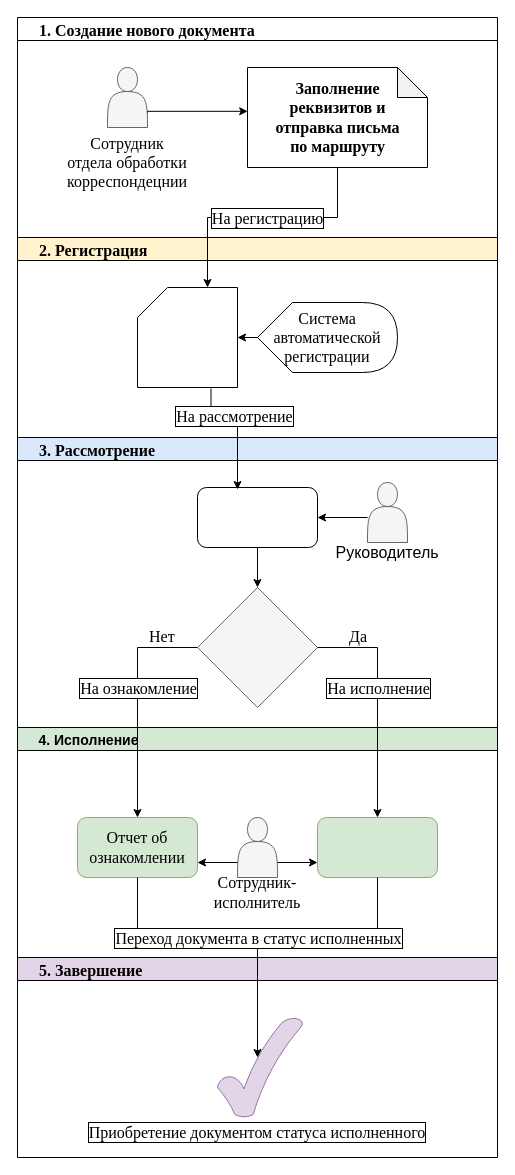
The diagram is 515 pixels wide and 1175 high, and some of its shapes have lost their labels. The centre of each missing label's shape, as x and y in pixels:
"Вынесение резолюции" belongs at point (257, 517).
"Отчет об исполнении" belongs at point (377, 847).
"Регистрация документа" belongs at point (187, 337).
"Требуется исполнение?" belongs at point (257, 647).
